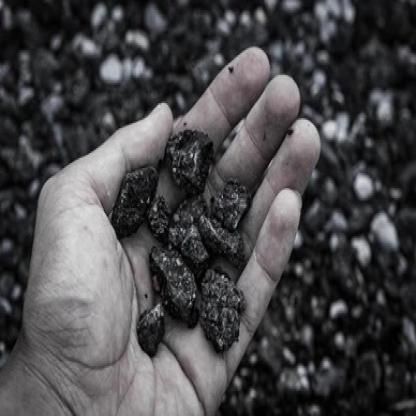Sedimentary_coal: (146, 241, 200, 321), (106, 156, 157, 226), (208, 268, 249, 353), (160, 126, 214, 190)
